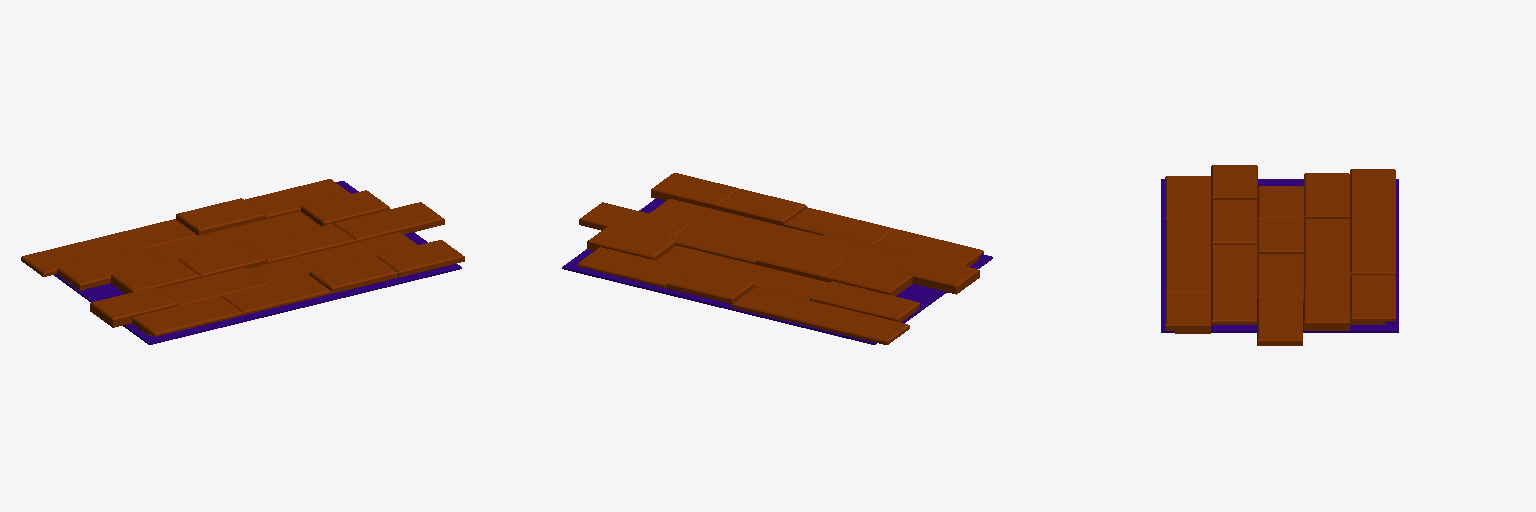
File: wall.obj
3 renders of one model, left to right at view 1: azimuth 30°, elevation 25°; view 2: azimuth 150°, elevation 25°; view 3: azimuth 270°, elevation 25°, orthographic.
Parts seen in each view (by area): view 1: Box072, Box085, Box086, Box081, Box076, Box071, Box080, Box077, Box079, Box075, Box083, Box074 (+6 smaller); view 2: Box072, Box086, Box081, Box085, Box077, Box074, Box079, Box080, Box083, Box071, Box076, Box088 (+6 smaller); view 3: Box081, Box072, Box086, Box085, Box074, Box071, Box075, Box077, Box079, Box076, Box080, Box078 (+6 smaller).
Part boxes in pixels (x1,y1,x2,y2): Box072: (21, 219, 197, 276); Box085: (54, 181, 461, 344); Box086: (147, 211, 319, 261); Box081: (248, 232, 416, 283); Box076: (132, 296, 242, 336); Box071: (334, 202, 444, 241); Box080: (220, 274, 331, 314); Box077: (57, 247, 164, 290); Box079: (246, 224, 355, 263); Box075: (158, 267, 266, 305); Box083: (90, 287, 178, 327); Box074: (245, 179, 350, 218); Box072: (732, 287, 909, 344); Box086: (656, 246, 828, 299); Box081: (649, 199, 820, 248); Box085: (562, 199, 992, 344); Box077: (809, 281, 919, 322); Box074: (577, 247, 685, 287); Box079: (671, 224, 776, 264); Box080: (784, 207, 894, 245); Box083: (891, 254, 979, 294); Box071: (579, 202, 689, 238); Box076: (873, 229, 983, 266); Box088: (666, 266, 754, 303); Box081: (1211, 245, 1257, 324); Box072: (1350, 169, 1395, 240); Box086: (1304, 219, 1349, 290); Box085: (1161, 179, 1398, 332); Box074: (1350, 275, 1395, 324); Box071: (1257, 297, 1302, 345); Box075: (1211, 200, 1257, 245); Box077: (1304, 173, 1349, 219); Box079: (1258, 254, 1303, 302); Box076: (1165, 176, 1210, 219); Box080: (1165, 219, 1210, 260); Box078: (1304, 290, 1349, 330).
Bounding box in the file's own units: 801 × 23.71 × 463.